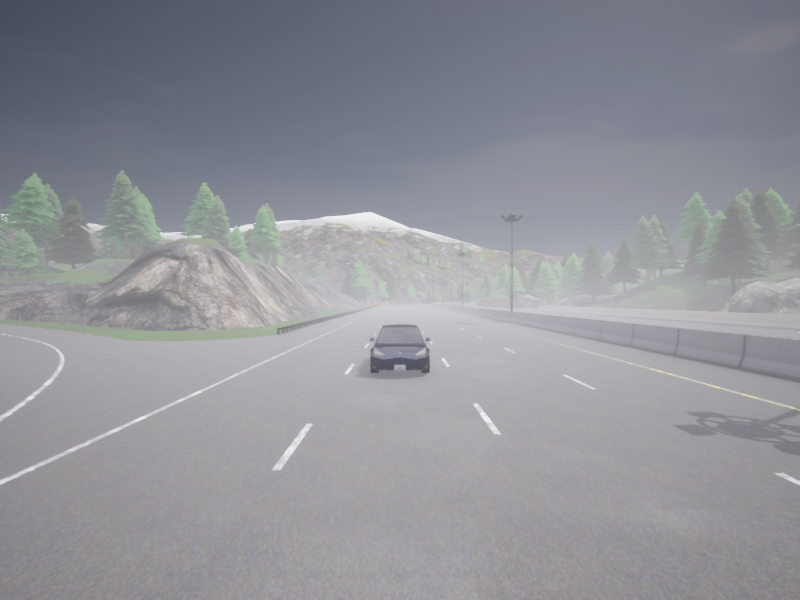vehicle: (369, 324, 430, 373), (455, 301, 460, 303), (458, 302, 460, 304)
